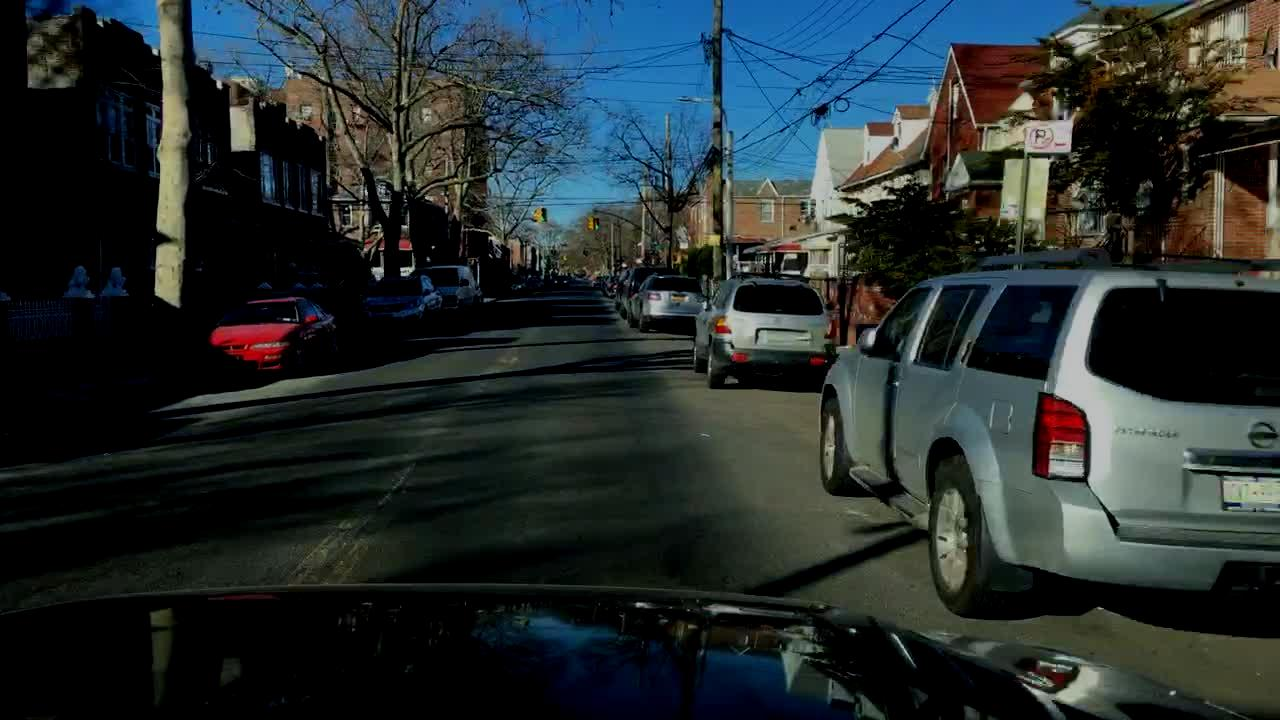Nissan: (1238, 408, 1280, 454)
